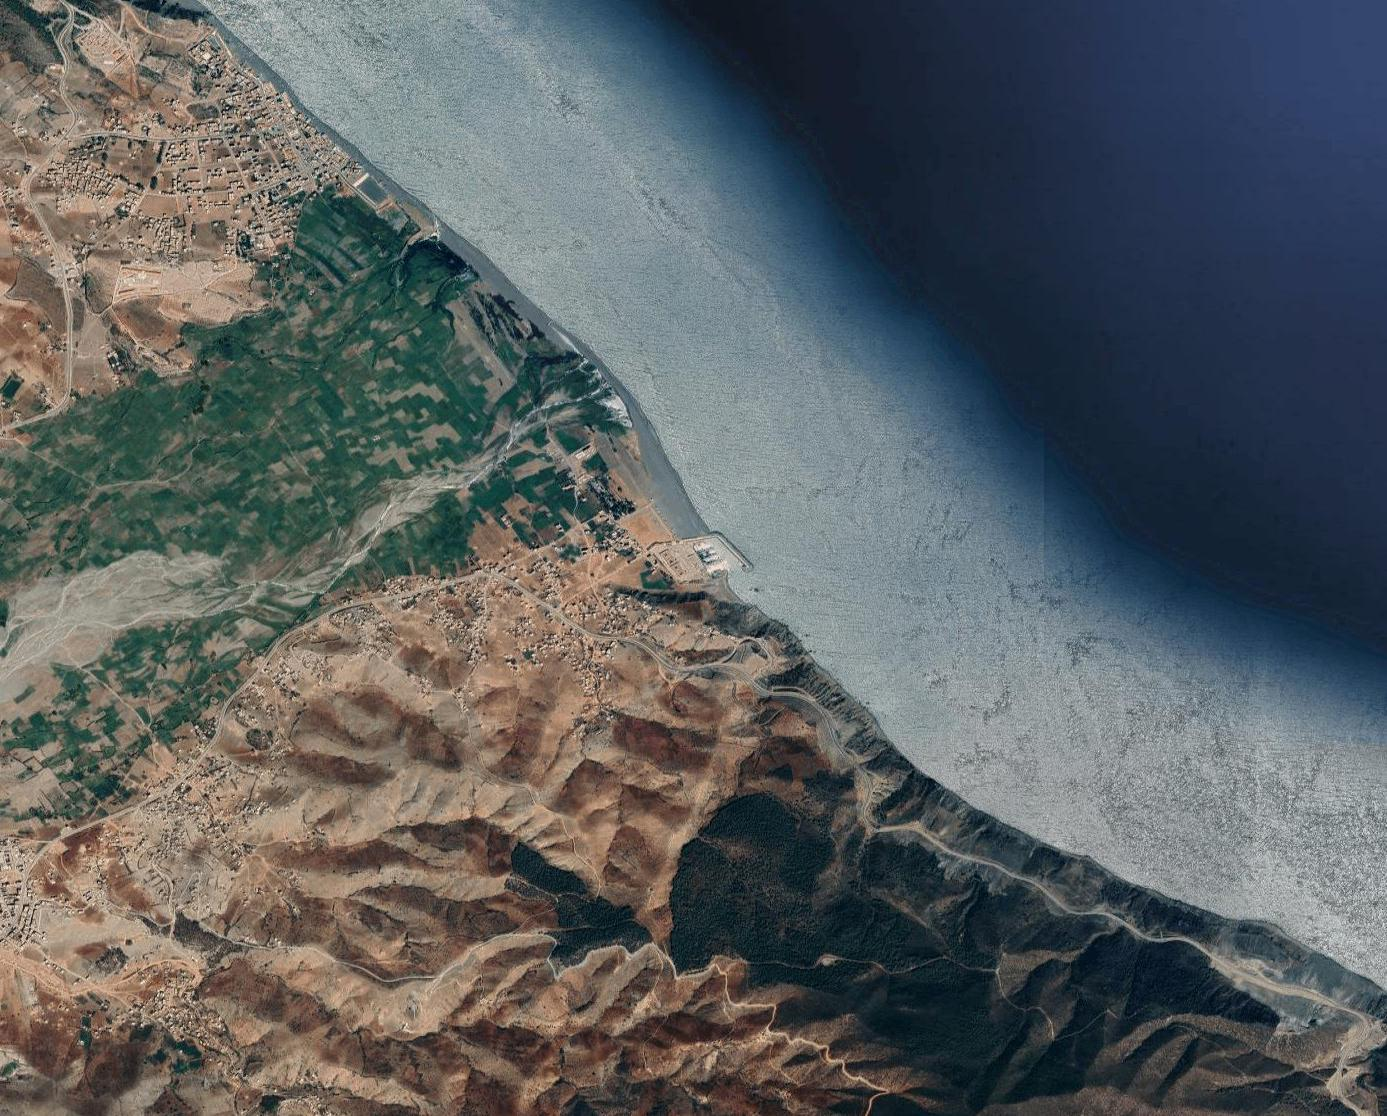harbor: (668, 519, 754, 586)
motorway: (180, 688, 241, 782), (1157, 935, 1264, 984), (1265, 979, 1372, 1028), (957, 851, 1054, 900), (1057, 898, 1154, 947), (573, 623, 668, 668), (668, 665, 787, 700), (92, 779, 182, 824), (789, 696, 853, 760), (239, 627, 301, 691), (495, 574, 571, 622), (391, 566, 494, 599), (303, 594, 386, 631), (881, 819, 957, 857), (851, 762, 880, 831)
